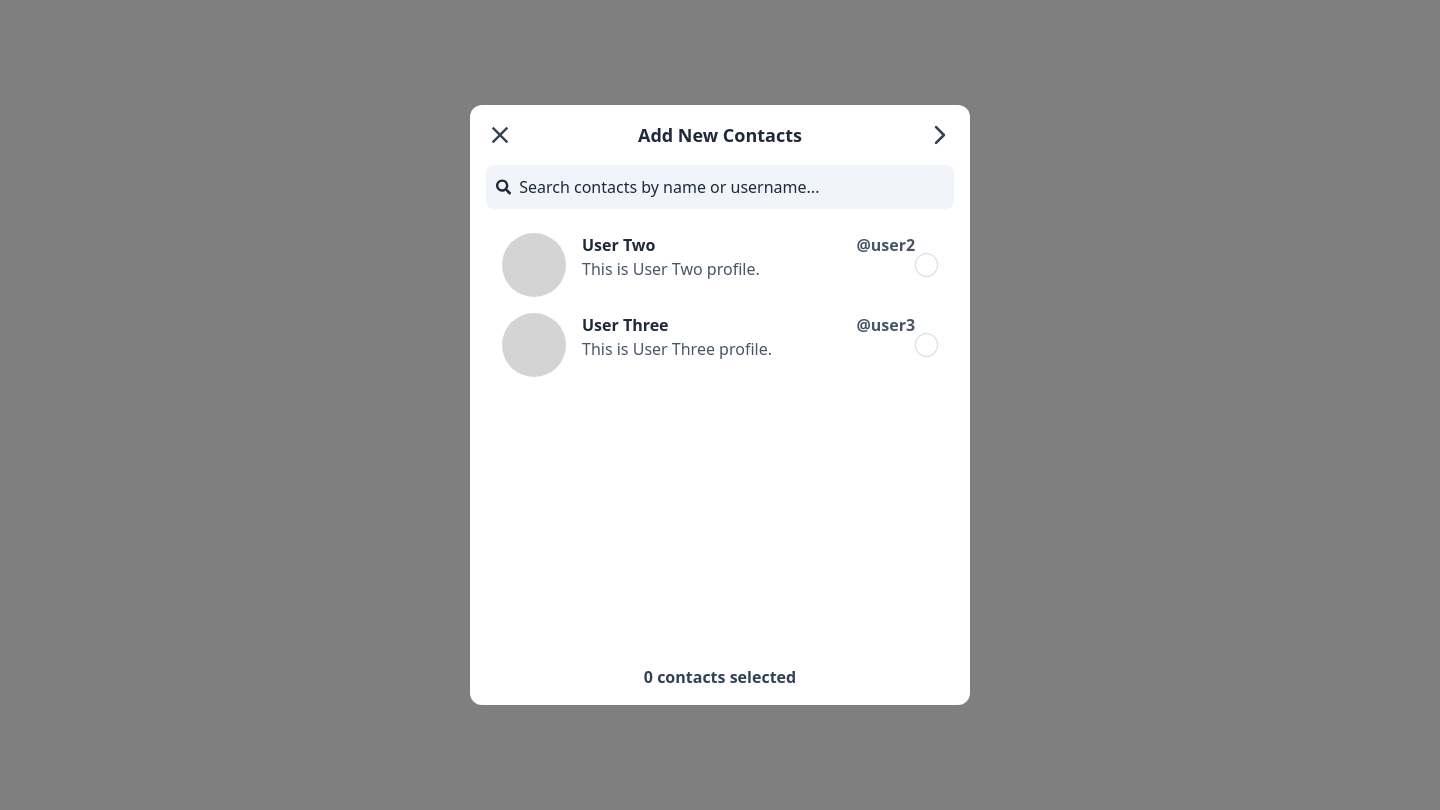
Test: <AddNewContactsModal /> › filters contacts by search input
Clear the field with test id "search-contacts-input": (732, 187) [519,175,944,199]
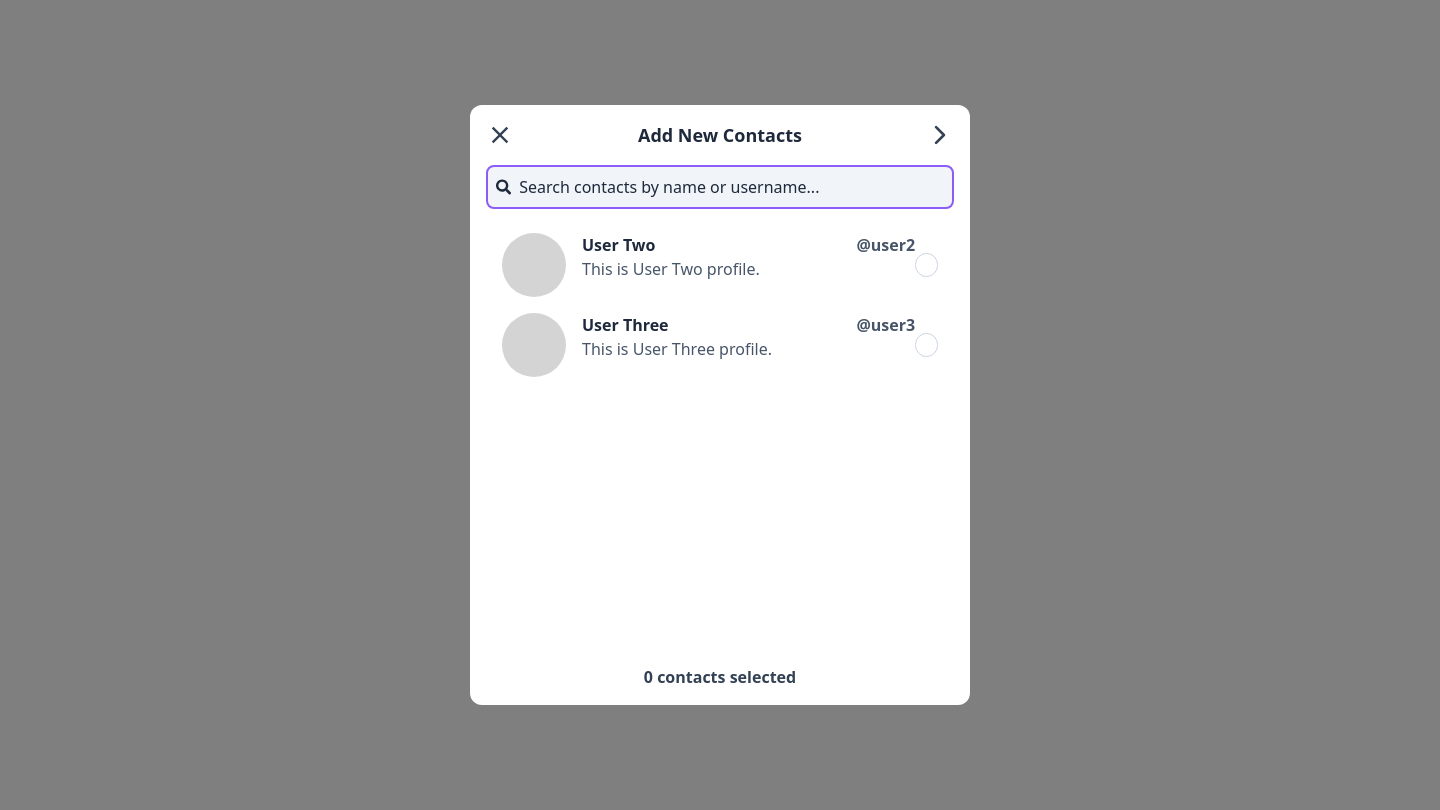
Type keys "User Two"
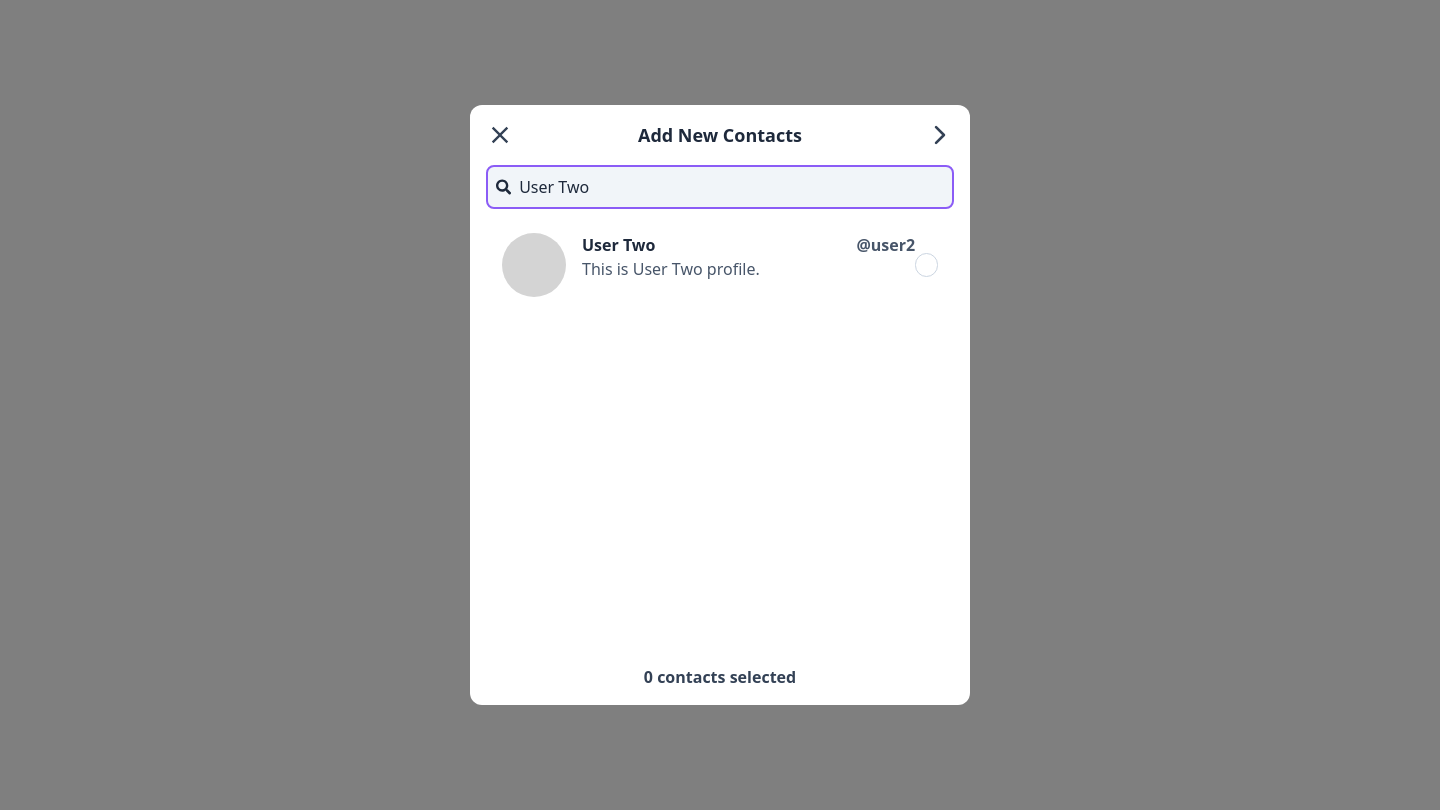
Expected: the field with test id "search-contacts-input" holds "User Two", [519,175,944,199]
